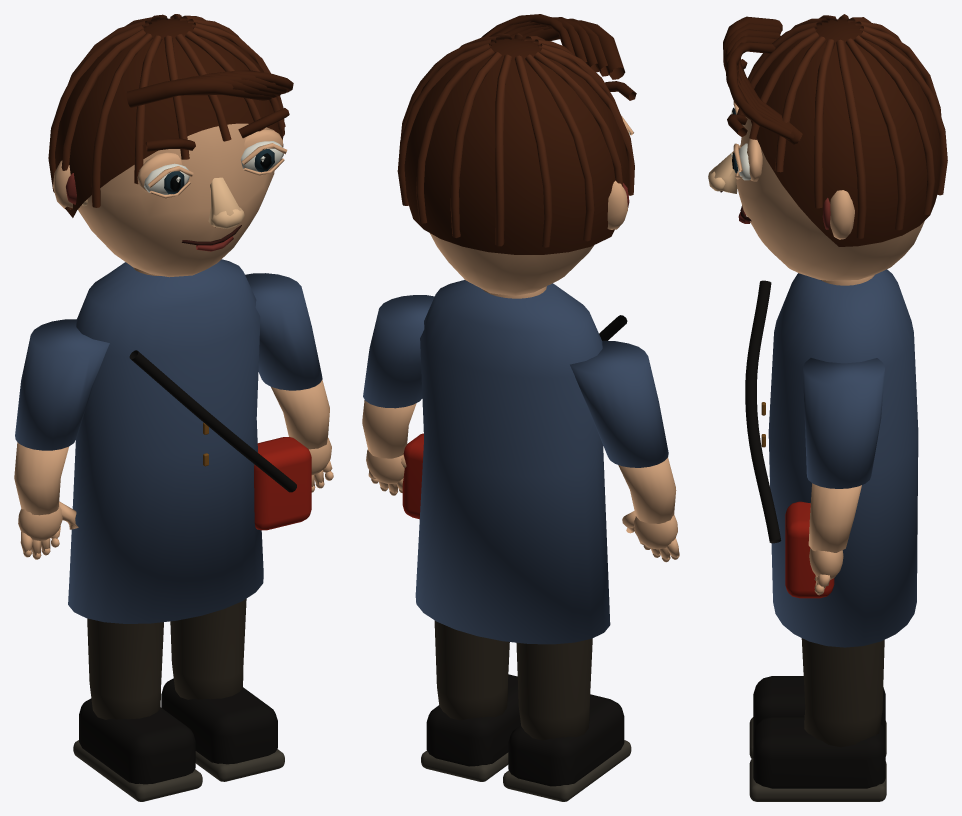
The model's file is patient-28.glb.
3 renders of one model, left to right at view 1: azimuth 30°, elevation 25°; view 2: azimuth 150°, elevation 25°; view 3: azimuth 270°, elevation 25°, orthographic.
Visible parts, largest first — view 1: Body, Head, LegL, LegR, ArmL, ArmR; view 2: Body, Head, LegL, ArmL, LegR, ArmR; view 3: Head, Body, LegR, ArmR, LegL.
Boxes of the visible parts, x1,y1,x2,y2 form: Body: (68,259,311,623); Head: (48,14,293,277); LegL: (73,618,202,801); LegR: (161,598,284,781); ArmL: (14,319,109,559); ArmR: (245,273,333,492); Body: (402,280,627,644); Head: (397,14,636,295); LegL: (503,638,631,801); ArmL: (570,340,679,562); LegR: (421,620,520,781); ArmR: (362,295,434,495); Head: (708,14,947,280); Body: (745,269,918,647); LegR: (749,638,886,801); ArmR: (803,358,884,595); LegL: (749,676,886,758).
Size of the model in its own units: 0.5797 by 1.3 by 0.3822.
